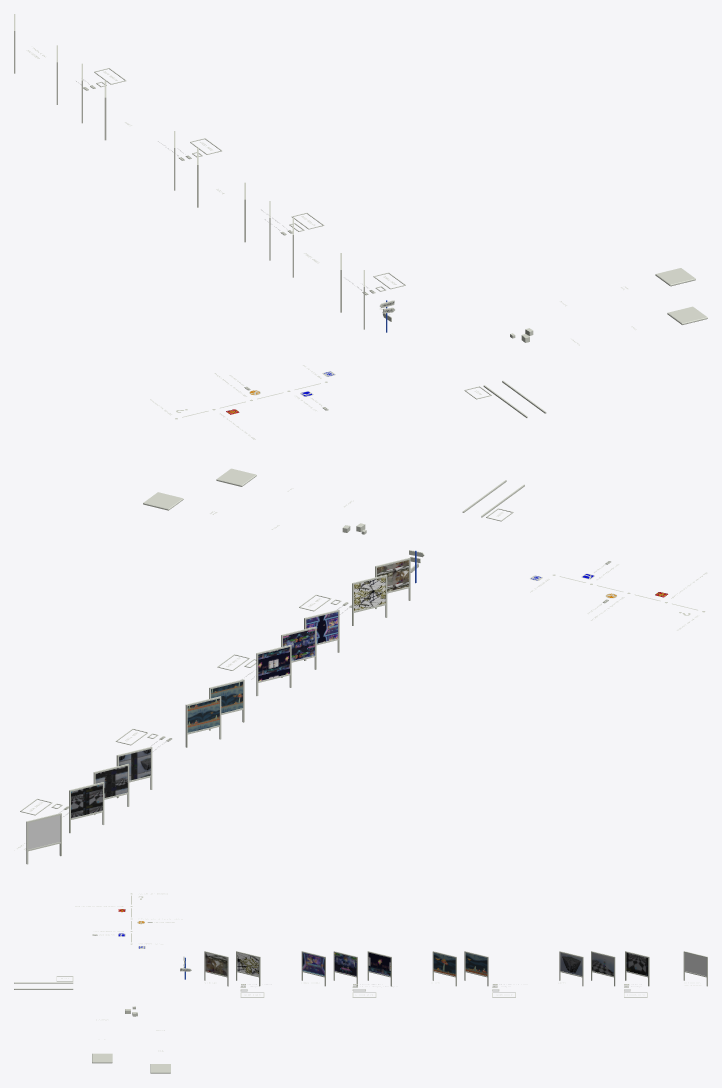
The model's file is ground.glb.
3 views of the same model, one above another, from view 1: azimuth 30°, elevation 25°; view 2: azimuth 150°, elevation 25°; view 3: azimuth 270°, elevation 25° (orthographic). The views are drawn at different scales.
Parts seen in each view (by area): view 1: no part large enough to name; view 2: Panel2.002, Panel3.002, Panel3, Panel3.005, Panel2.001, Panel2.003, Panel2, Panel1.002, Panel1.001, Panel1, Panel1.003; view 3: Panel1, Panel1.001, Panel1.002, Panel3, Panel3.002, Panel1.003, Panel2, Panel2.002, Panel2.003, Panel2.001, Panel3.005.
Boxes of the visible parts, box(x1,y1,x2,y2) form: Panel2.002: box(187, 698, 219, 732); Panel3.002: box(28, 815, 60, 849); Panel3: box(258, 647, 289, 681); Panel3.005: box(71, 784, 102, 818); Panel2.001: box(354, 577, 385, 611); Panel2.003: box(95, 766, 127, 797); Panel2: box(283, 629, 314, 660); Panel1.002: box(211, 681, 242, 713); Panel1.001: box(377, 560, 408, 591); Panel1: box(306, 612, 337, 643); Panel1.003: box(119, 749, 150, 780); Panel1: box(302, 952, 324, 975); Panel1.001: box(205, 952, 227, 975); Panel1.002: box(433, 953, 455, 976); Panel3: box(368, 953, 390, 976); Panel3.002: box(684, 953, 706, 976); Panel1.003: box(560, 952, 582, 975); Panel2: box(334, 953, 356, 976); Panel2.002: box(465, 953, 487, 975); Panel2.003: box(592, 952, 613, 975); Panel2.001: box(237, 952, 258, 975); Panel3.005: box(626, 952, 647, 975).
Size of what is drawn, in the model's own units: 86.94 by 6.62 by 142.
Materials: 86 (10 with a texture image).
